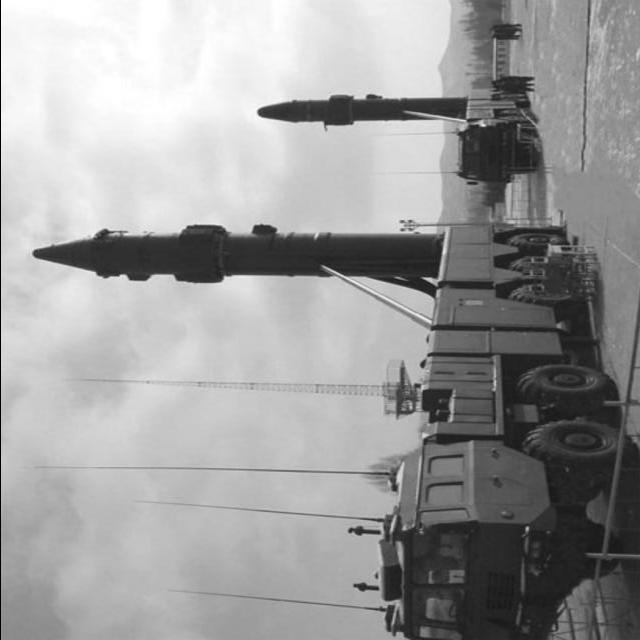missile: (27, 222, 444, 288), (255, 94, 484, 131)
